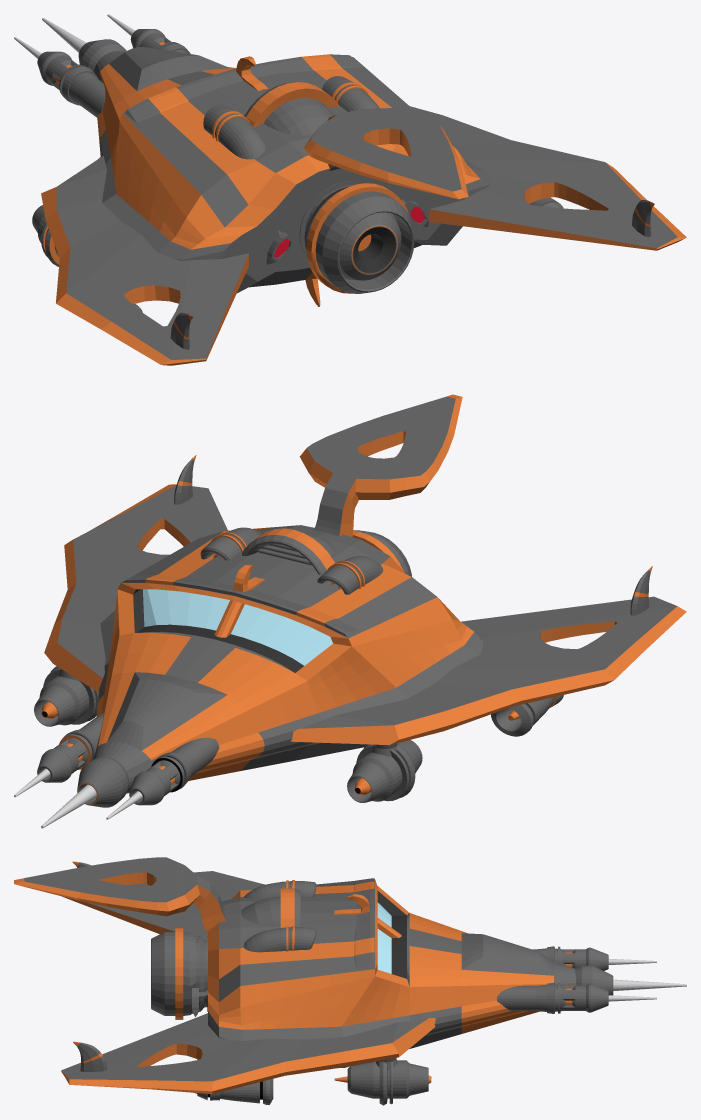
File: Spaceship.fbx
3 views of the same model, one above another, from view 1: azimuth 30°, elevation 25°; view 2: azimuth 150°, elevation 25°; view 3: azimuth 270°, elevation 25° (orthographic). The views are drawn at different scales.
Visible parts, largest first — view 1: Cube.003; view 2: Cube.003; view 3: Cube.003.
Boxes of the visible parts, <box> form: Cube.003: <box>14,14,686,365</box>; Cube.003: <box>14,394,686,828</box>; Cube.003: <box>14,857,686,1105</box>.
Size of the model in its own units: 3634 by 1357 by 4747.
